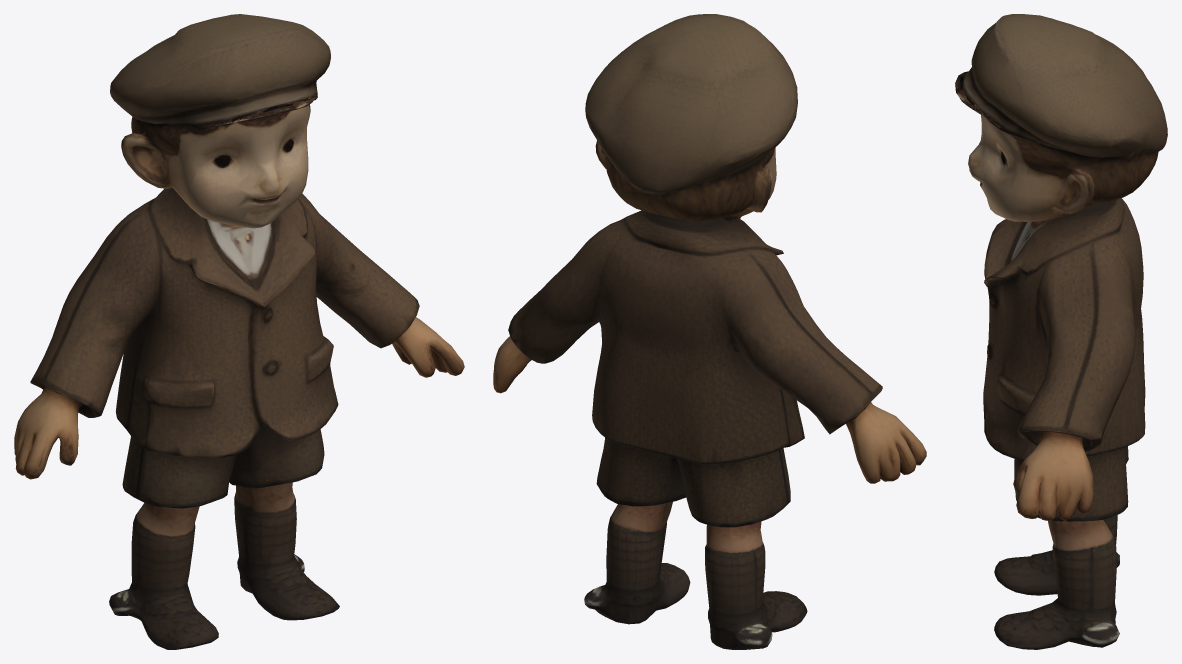
Rendered from jongetje.glb.
The picture shows the model from 3 angles, left to right: view 1: azimuth 30°, elevation 25°; view 2: azimuth 150°, elevation 25°; view 3: azimuth 270°, elevation 25°; orthographic projection. The views are drawn at different scales.
Visible parts, largest first — view 1: geometry_0; view 2: geometry_0; view 3: geometry_0.
Part boxes in pixels (box(x1,y1,x2,y2)): geometry_0: box(14, 14, 464, 649); geometry_0: box(493, 14, 926, 649); geometry_0: box(955, 14, 1167, 649).
Bounding box in the file's own units: 0.7629 × 0.9993 × 0.3297.
1 material, 1 textured.
